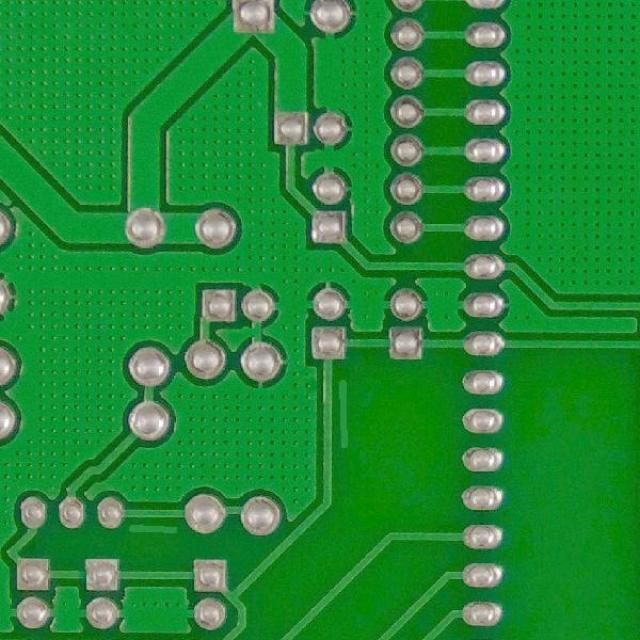Spurious_Cooper: (334, 374, 355, 461), (125, 517, 181, 538)
